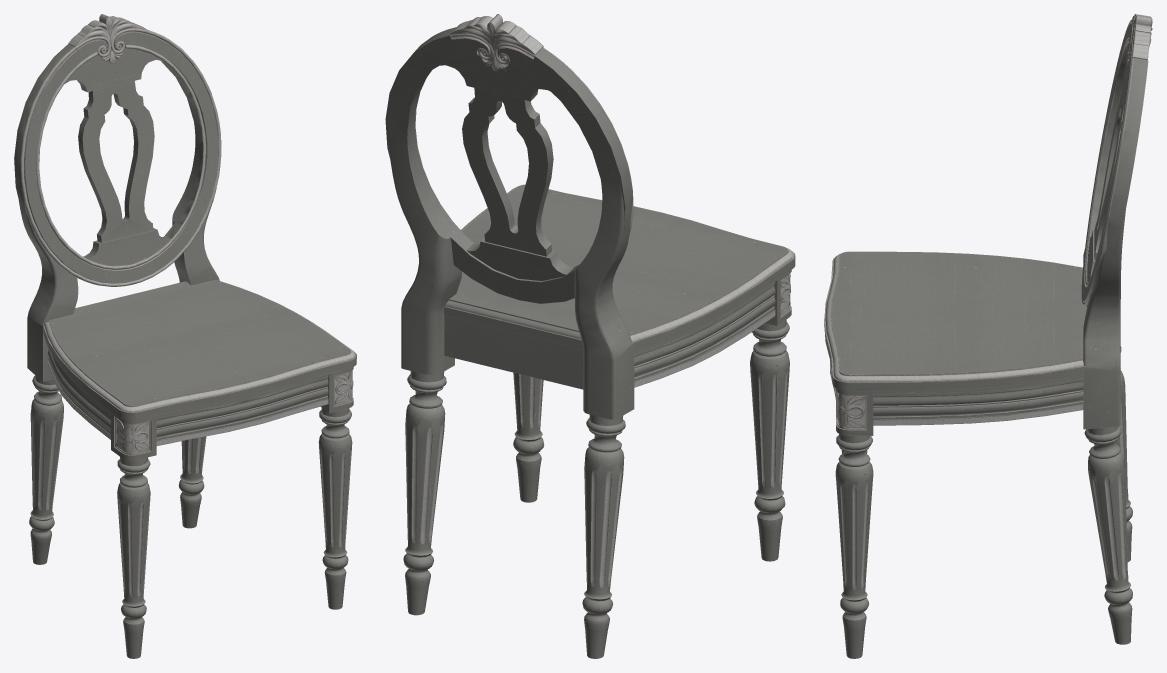
The model's file is example127.glb.
3 views of the same model, side by side, from view 1: azimuth 30°, elevation 25°; view 2: azimuth 150°, elevation 25°; view 3: azimuth 270°, elevation 25° (orthographic). The views are drawn at different scales.
Parts seen in each view (by area): view 1: Buffer Layer; view 2: Buffer Layer; view 3: Buffer Layer.
Part boxes in pixels (x1,y1,x2,y2): Buffer Layer: [14, 14, 356, 658]; Buffer Layer: [385, 14, 795, 658]; Buffer Layer: [824, 14, 1152, 658].
Size of the model in its own units: 0.52 by 1.1 by 0.559.
Materials: 1 (1 with a texture image).
